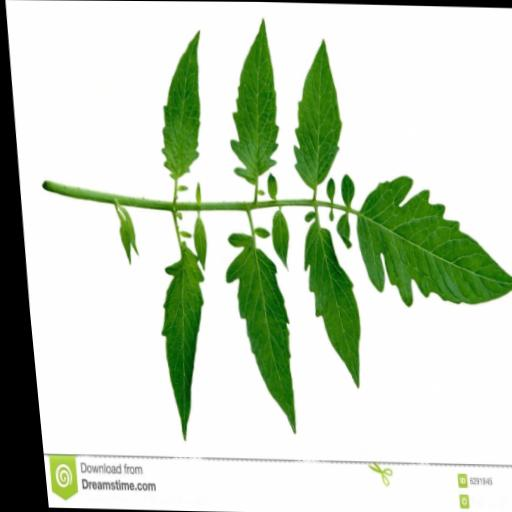Healthy: (345, 173, 512, 311), (212, 231, 293, 435), (144, 241, 212, 443), (216, 14, 285, 185), (292, 221, 361, 390), (280, 35, 346, 189), (147, 29, 212, 181), (264, 211, 287, 270), (186, 219, 204, 271)
